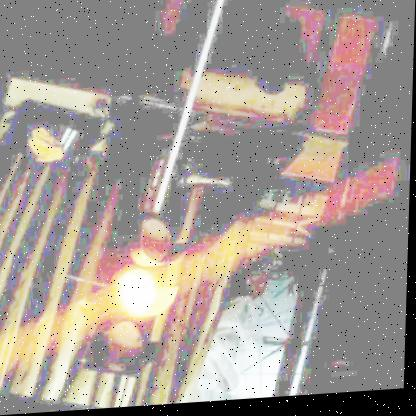Traffic Light -Yellow-: (89, 205, 201, 382)
